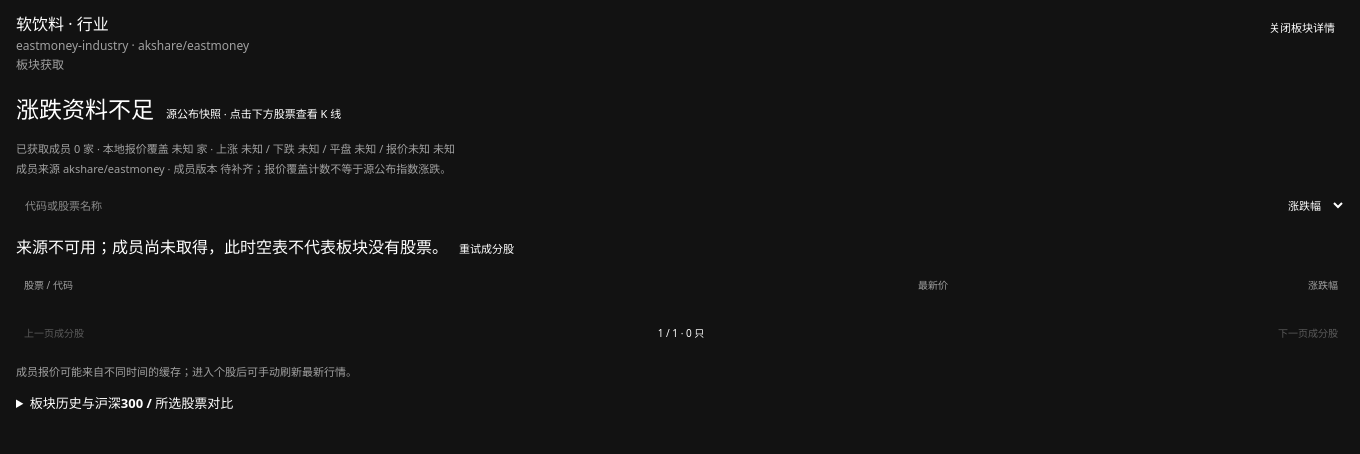
Test case: shows board-member source errors and the retry button performs a fresh fetch
The image size is (1360, 454).
Expected: the message shows "来源不可用", [16,236,96,258]
Click the button "重试成分股" at (486, 250), box [448,234,525,266]
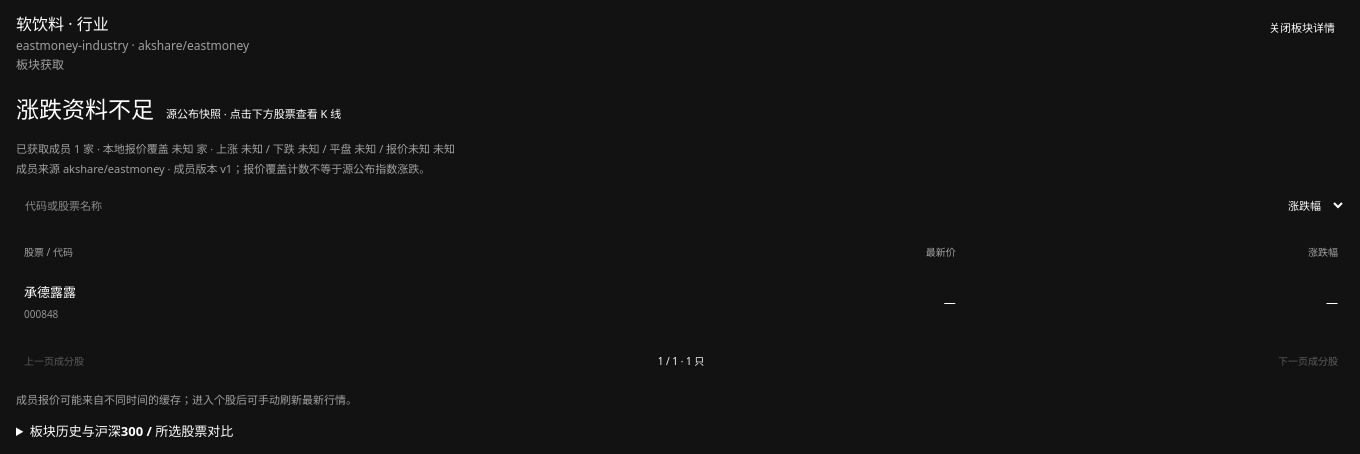
Now the button with aria-label "查看承德露露 000848" is shown, box [24,284,76,322]
